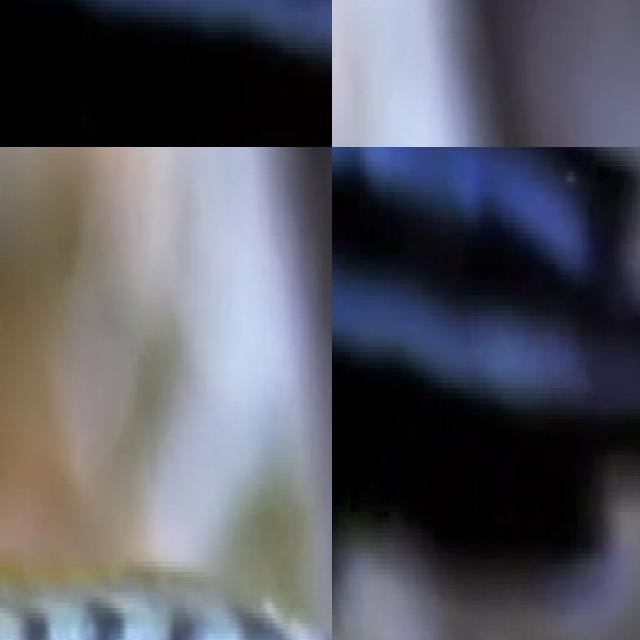fish: (0, 0, 332, 147)
